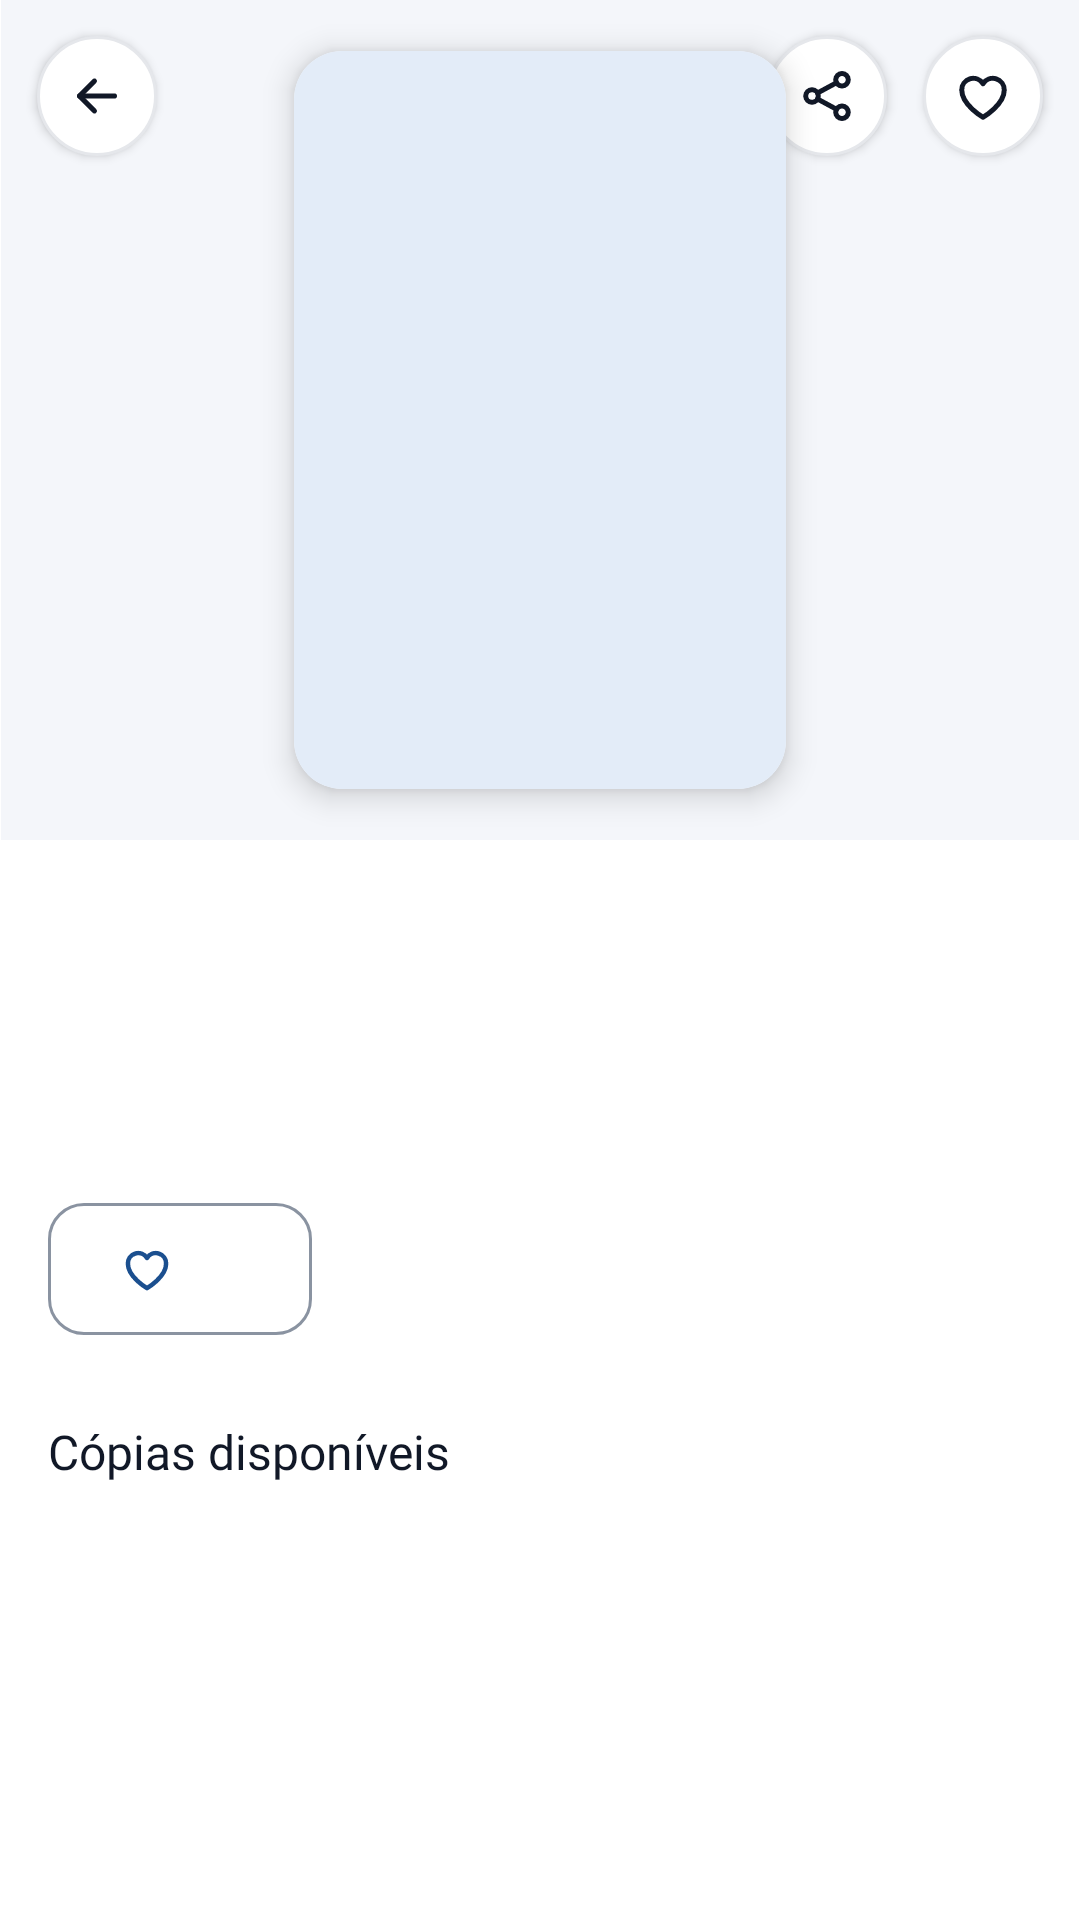

Icon click points for this 1080 x 1920 phone screenshot, format point (x, y):
Compartilhar: point (823, 100)
Voltar: point (95, 96)
